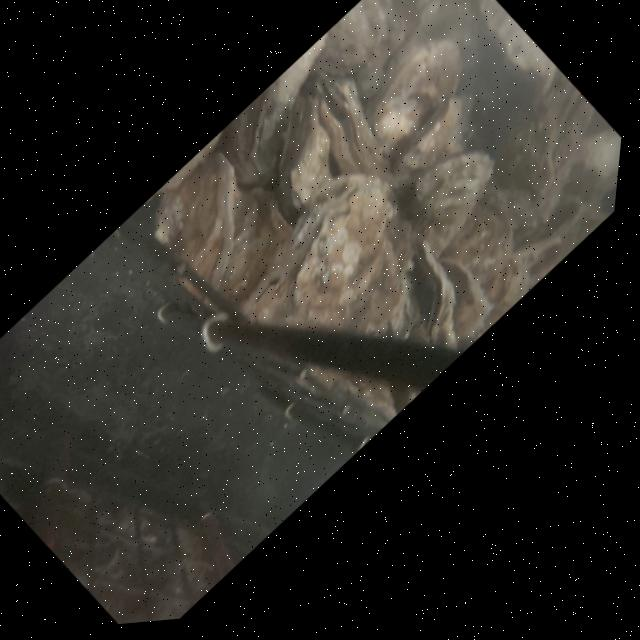Oyster-Closed: (200, 139, 490, 427), (124, 141, 296, 313), (208, 25, 379, 191), (229, 79, 381, 230), (383, 123, 529, 268)
Oyster-Indeterminate: (341, 19, 491, 166), (171, 172, 313, 313), (372, 81, 500, 206), (297, 0, 427, 104), (423, 187, 538, 301)
Oyster-Open: (272, 50, 430, 210), (367, 230, 503, 368)
